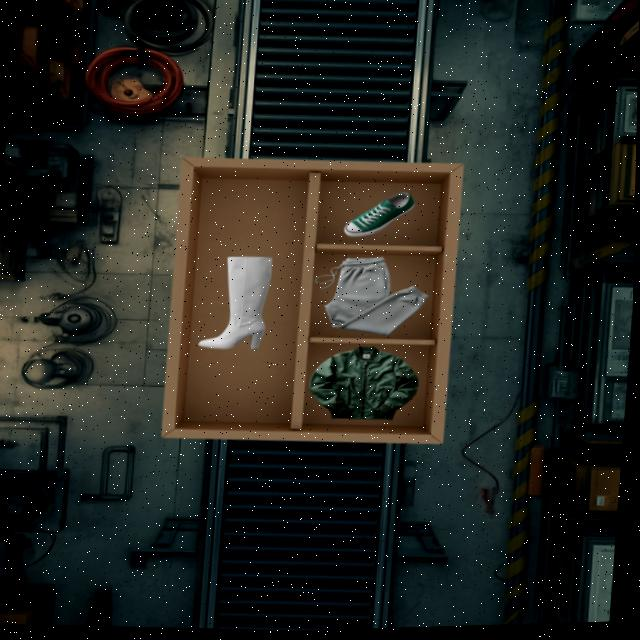boot: (198, 257, 272, 350)
jacket: (310, 347, 418, 420)
sneaker: (344, 193, 414, 236)
trousers: (324, 257, 427, 335)
